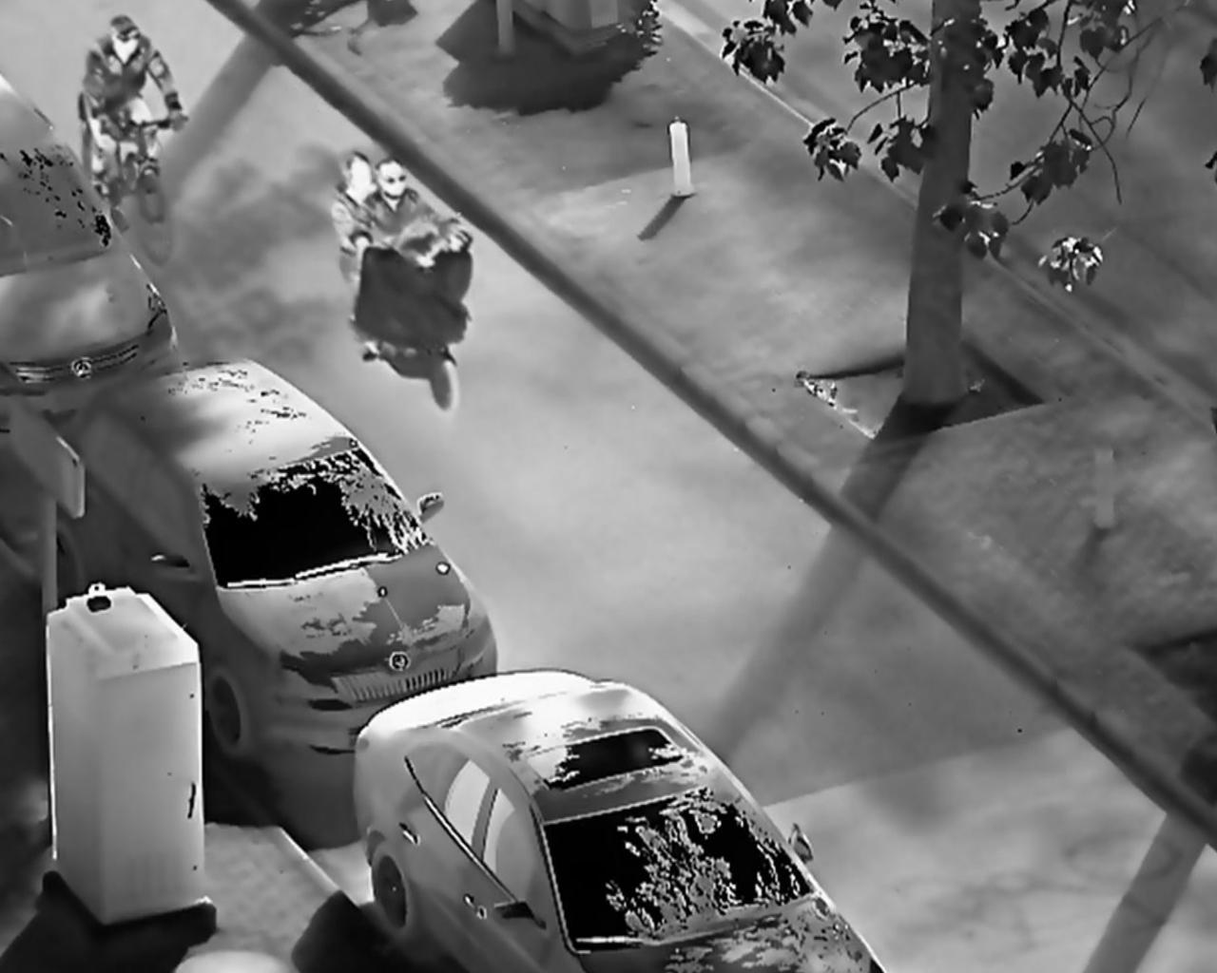person: (81, 14, 188, 206), (352, 154, 476, 306), (326, 148, 380, 284)
